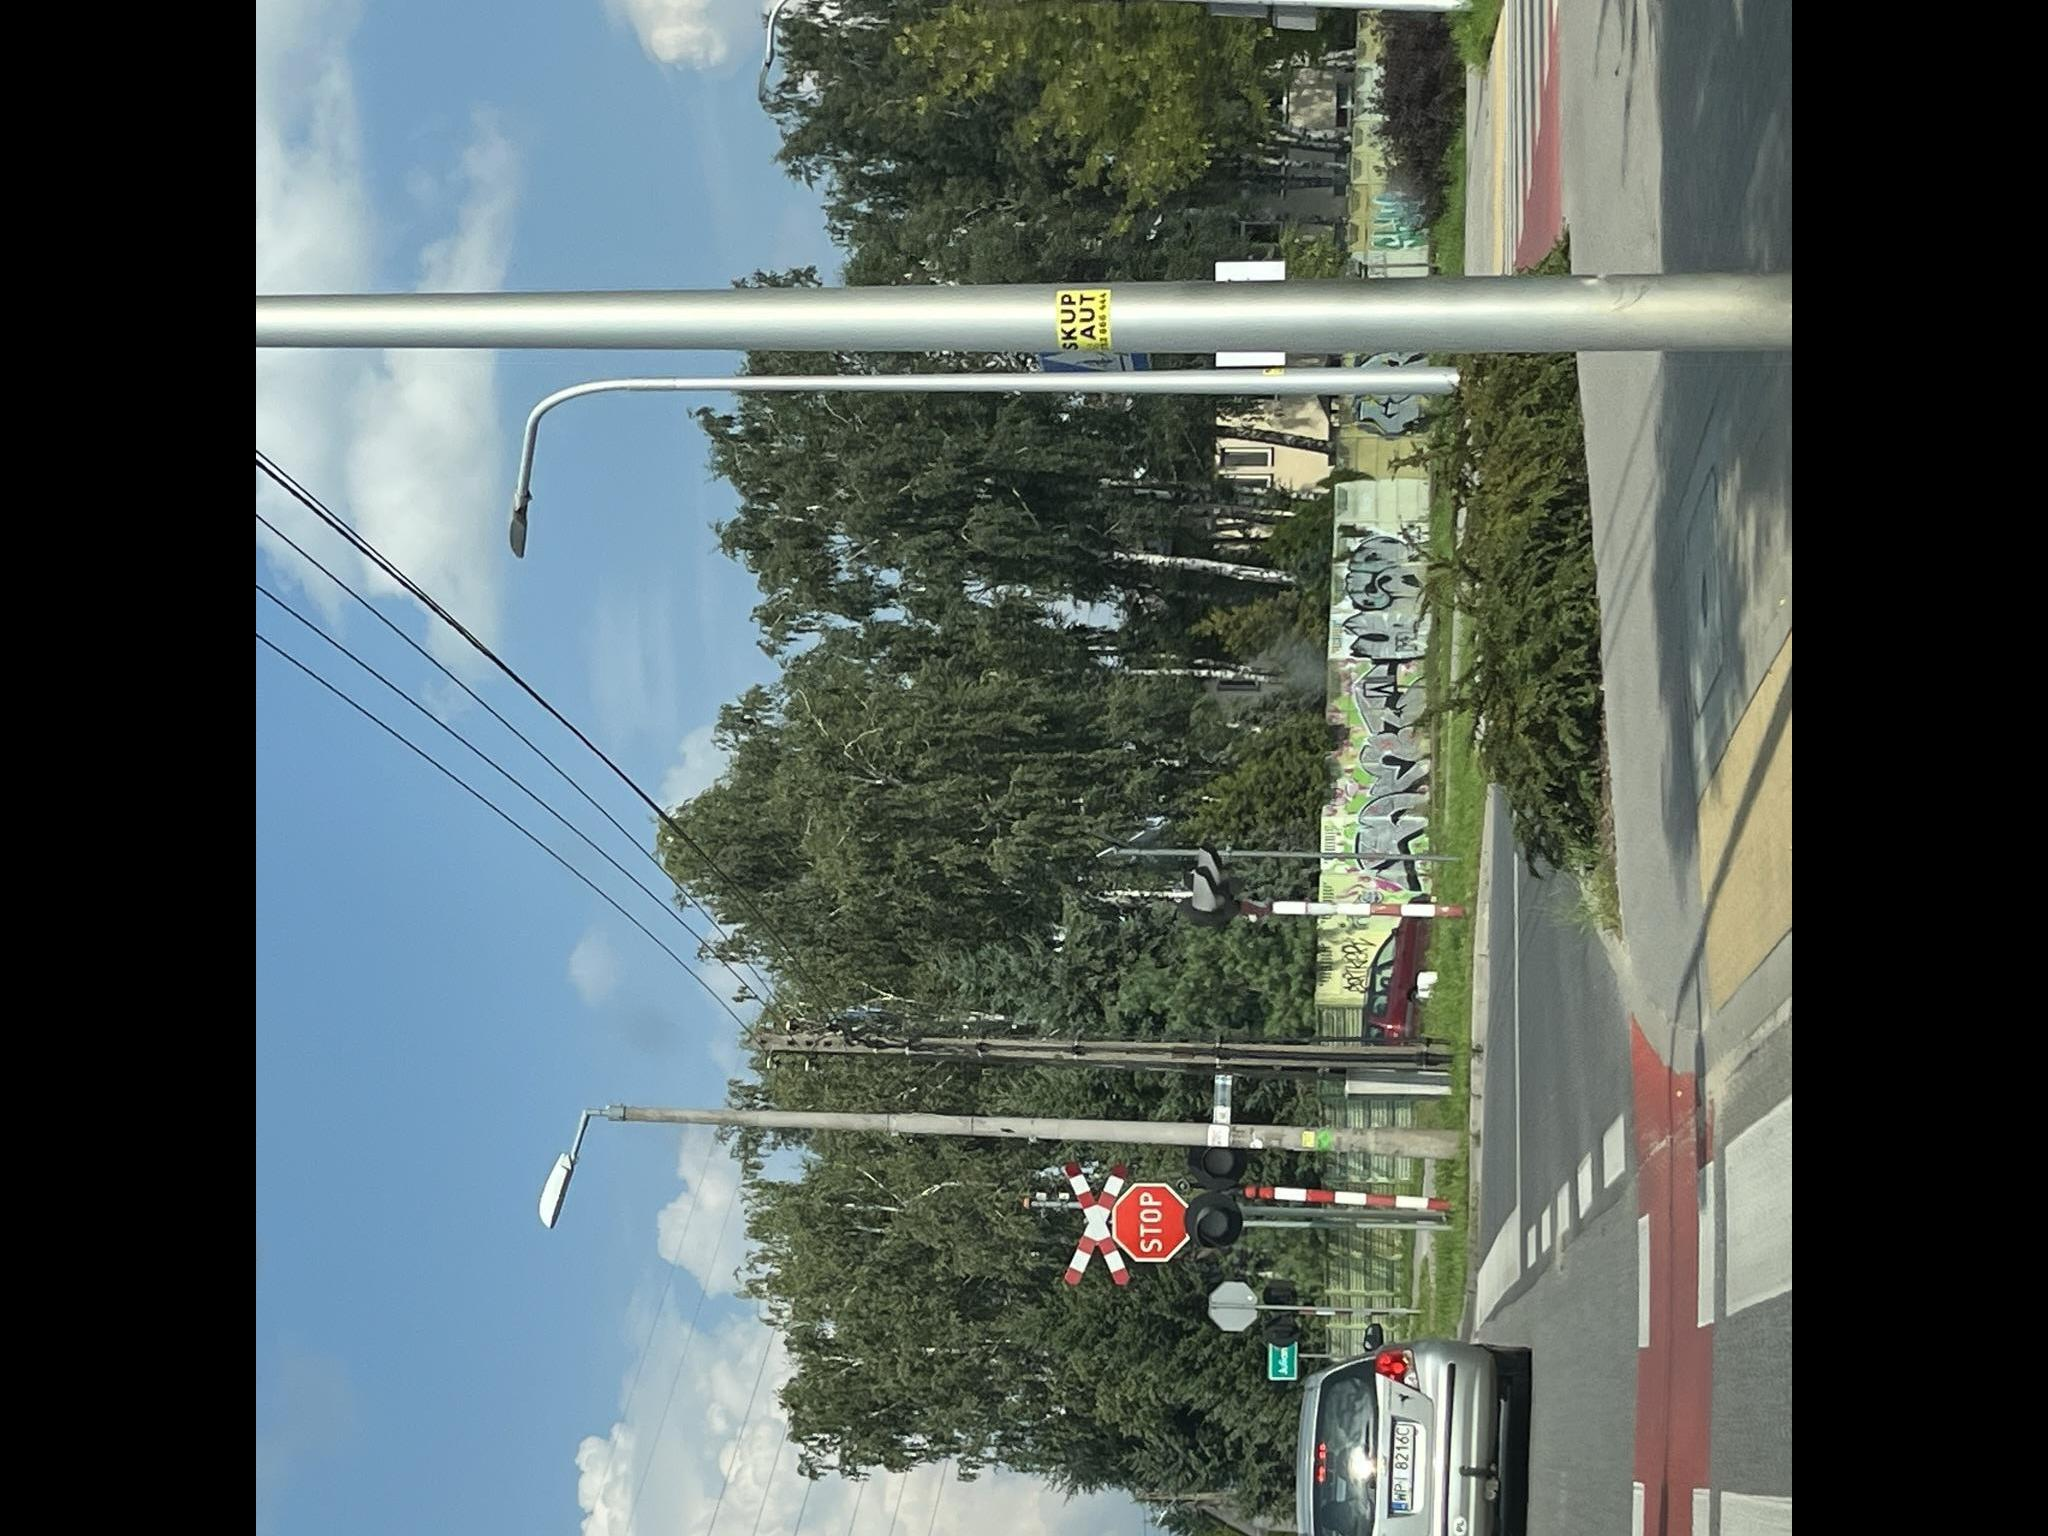direction-city: (1268, 1342, 1297, 1381)
prohibitory: (1113, 1181, 1190, 1262)
